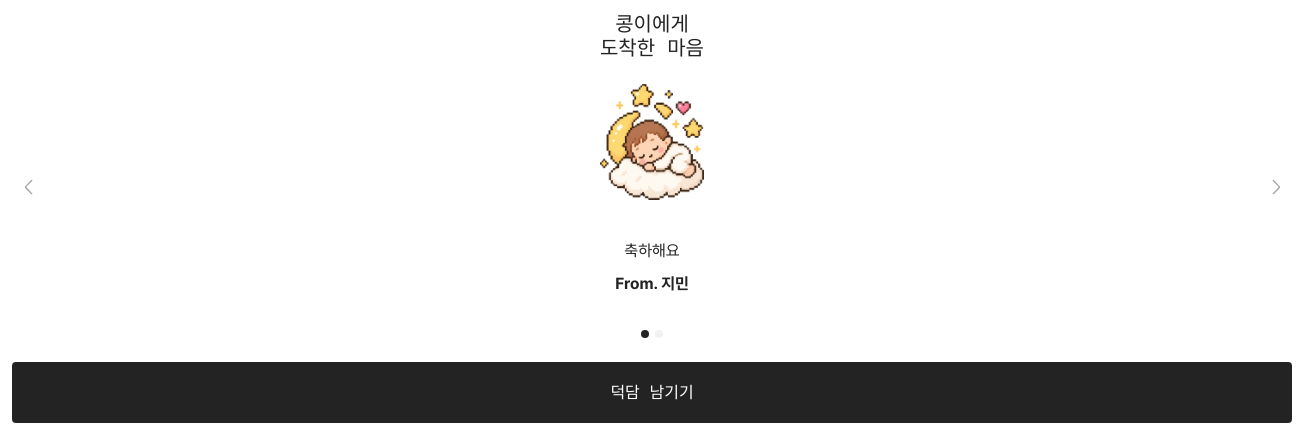
Test: CommentCarousel › 다음/이전 슬라이드 버튼 클릭으로 댓글이 전환되고 삽화 이미지가 바뀐다
The image size is (1304, 440).
Expected: the text "축하해요" is shown, [624,242,680,260]
Click the button named "다음 댓글" at x=1276, y=187, box [1260,171,1292,203]
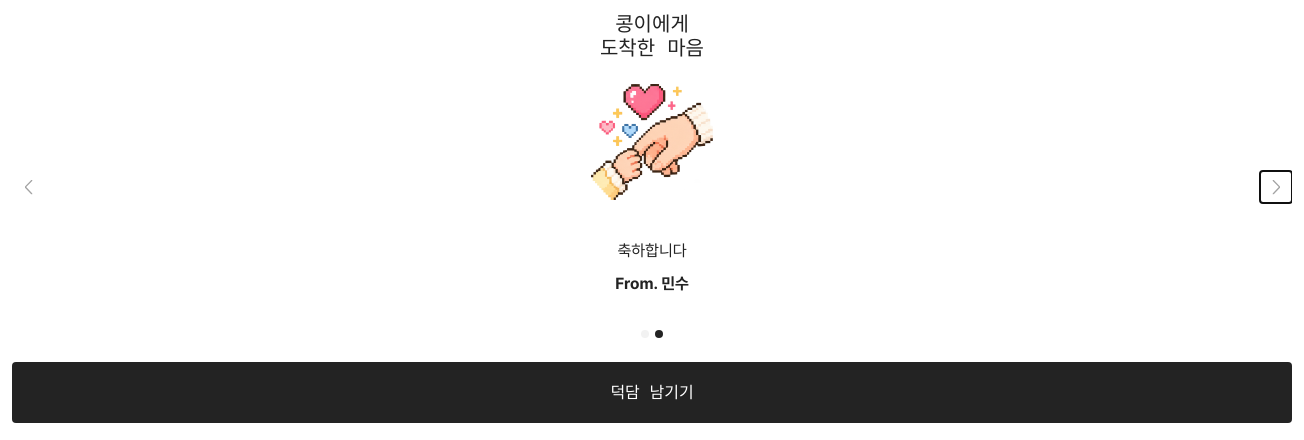
Result: the text "축하합니다" is shown at [617,242,686,260]
Click the button named "이전 댓글" at x=28, y=187, box [12,171,44,203]
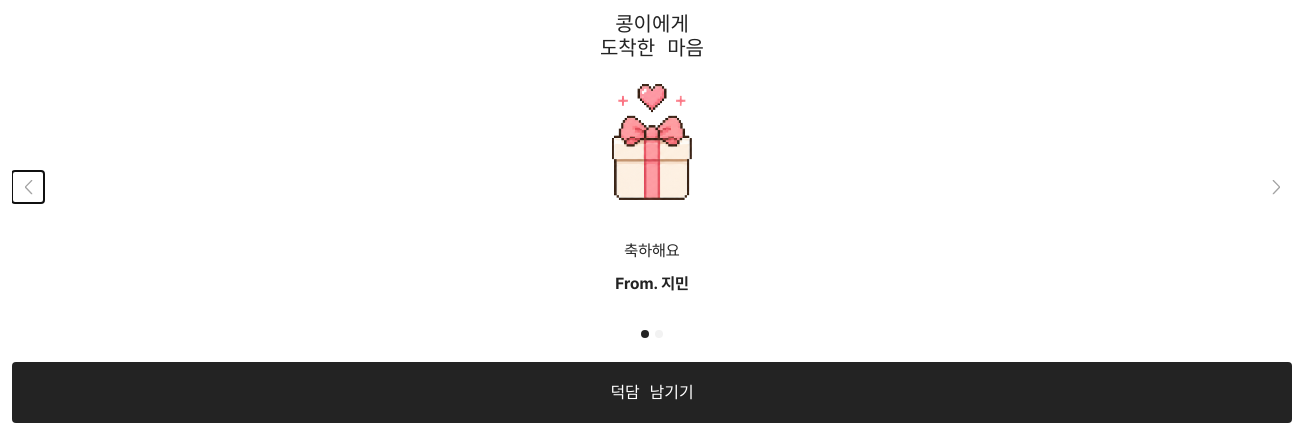
Result: the text "축하해요" is shown at [624,242,680,260]
